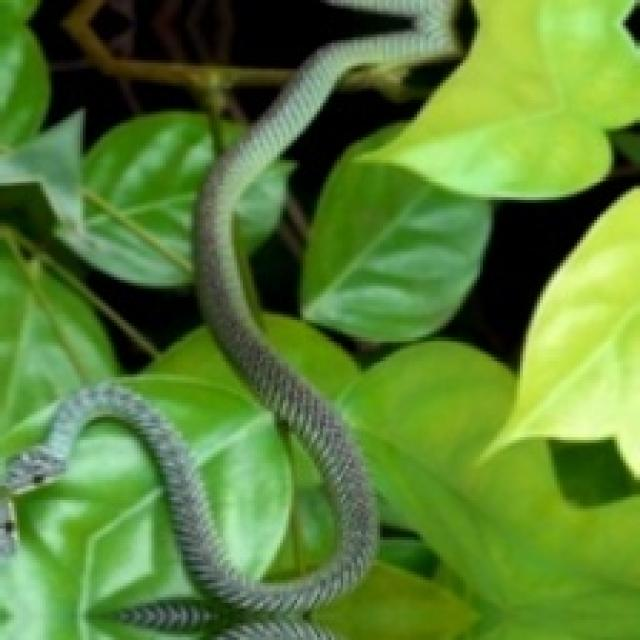paradise tree snake: (0, 0, 374, 637), (229, 9, 449, 260)
